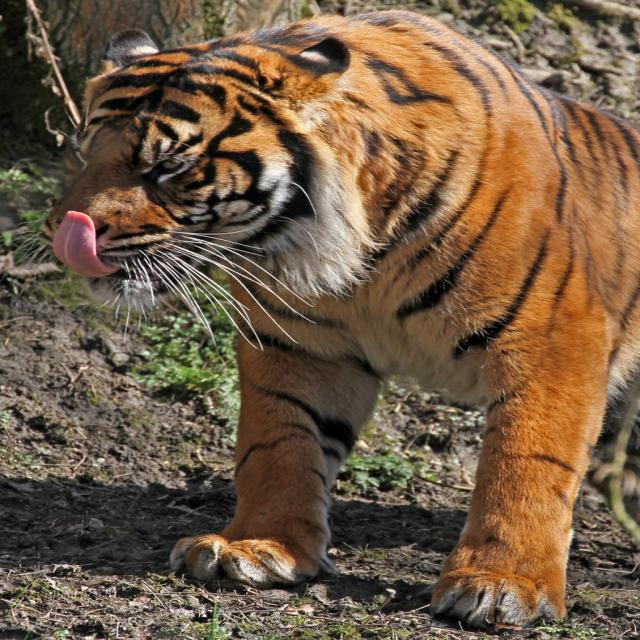Tiger: (11, 6, 639, 635)
